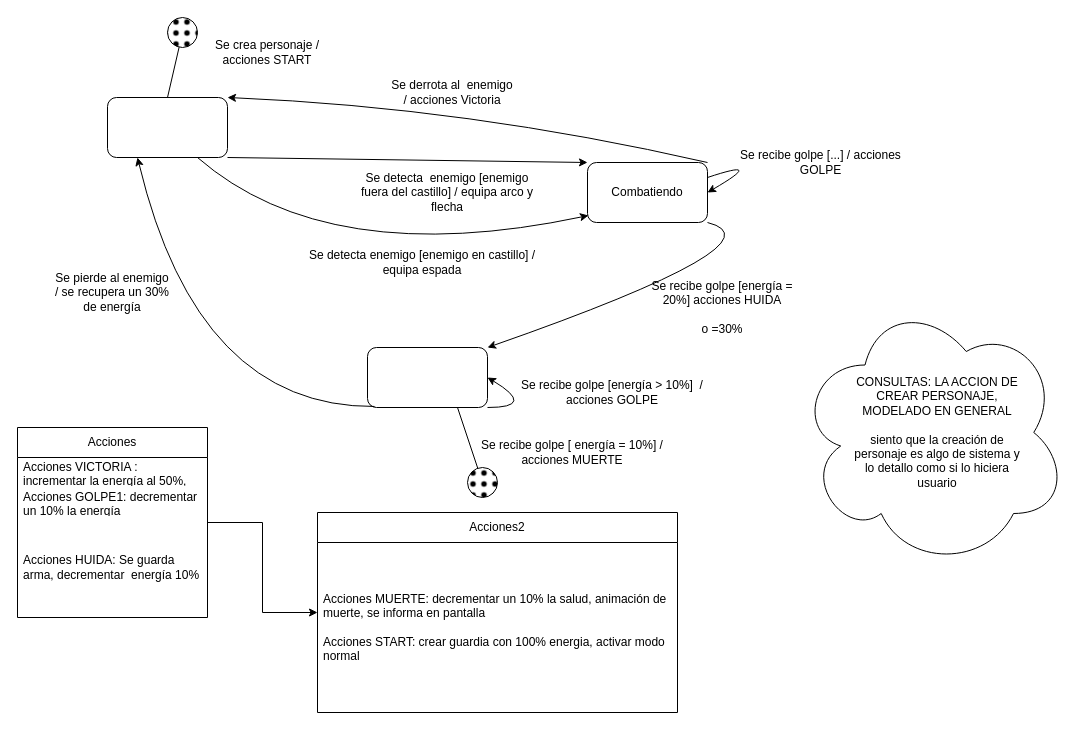
Image size: 1085x730. Some labels were removed from this diagram. The shapes that lost their labels are listed below. From the top down, each one's centre as x and y in pixels, then its label:
At pixel 167 127: "Vigilando".
At pixel 427 377: "Huyendo".
